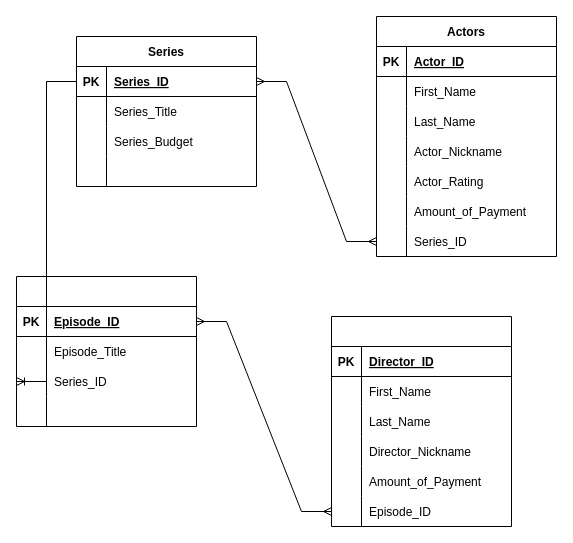
Image size: 573x543. Some labels were removed from this diagram. The box of each missing label's shape, as (x1, y1, x2, y2) in pixels:
Directors: (330, 316, 512, 526)
Episodes: (16, 276, 196, 426)
